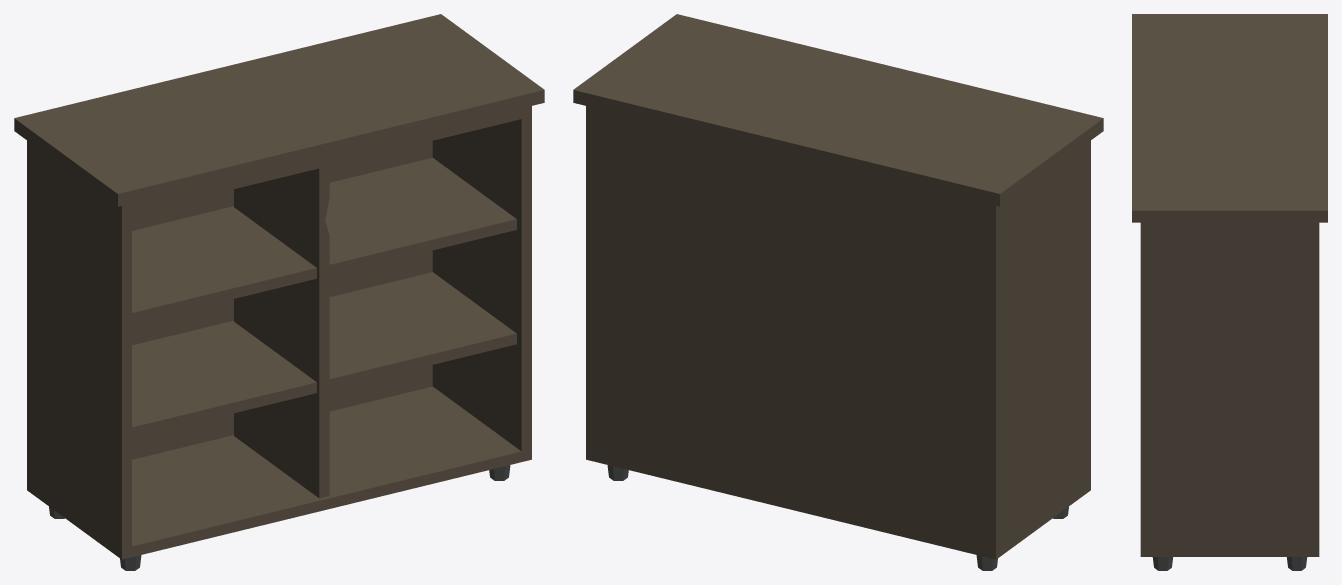
File: SM_Props_Interior_House_Room_Shelf_Decorative_04.fbx
3 views of the same model, side by side, from view 1: azimuth 30°, elevation 25°; view 2: azimuth 150°, elevation 25°; view 3: azimuth 270°, elevation 25° (orthographic). The views are drawn at different scales.
Parts seen in each view (by area): view 1: SM_Props_Interior_House_Room_Shelf_Decorative_04; view 2: SM_Props_Interior_House_Room_Shelf_Decorative_04; view 3: SM_Props_Interior_House_Room_Shelf_Decorative_04.
Part boxes in pixels (x1=…): SM_Props_Interior_House_Room_Shelf_Decorative_04: x1=14, y1=14, x2=544, y2=570; SM_Props_Interior_House_Room_Shelf_Decorative_04: x1=573, y1=14, x2=1103, y2=570; SM_Props_Interior_House_Room_Shelf_Decorative_04: x1=1132, y1=14, x2=1327, y2=570.
Bounding box in the file's own units: 104 × 91.47 × 43.81.
